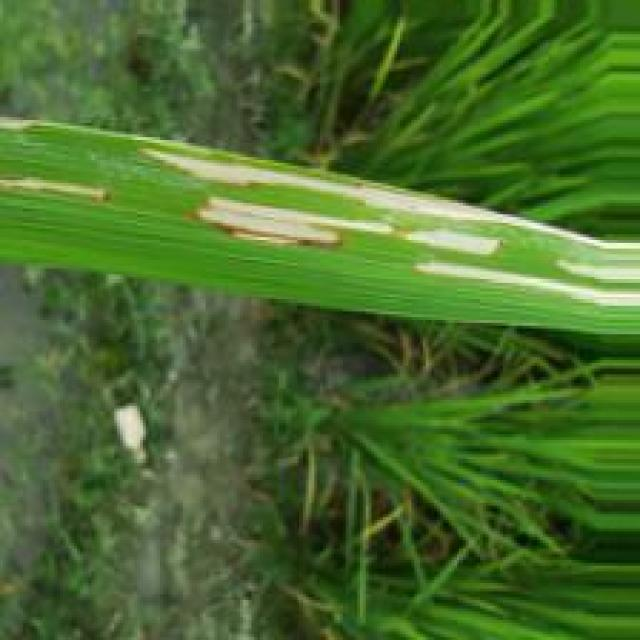Rice_Hispa: (150, 145, 640, 253), (188, 198, 502, 256), (407, 261, 640, 310)
